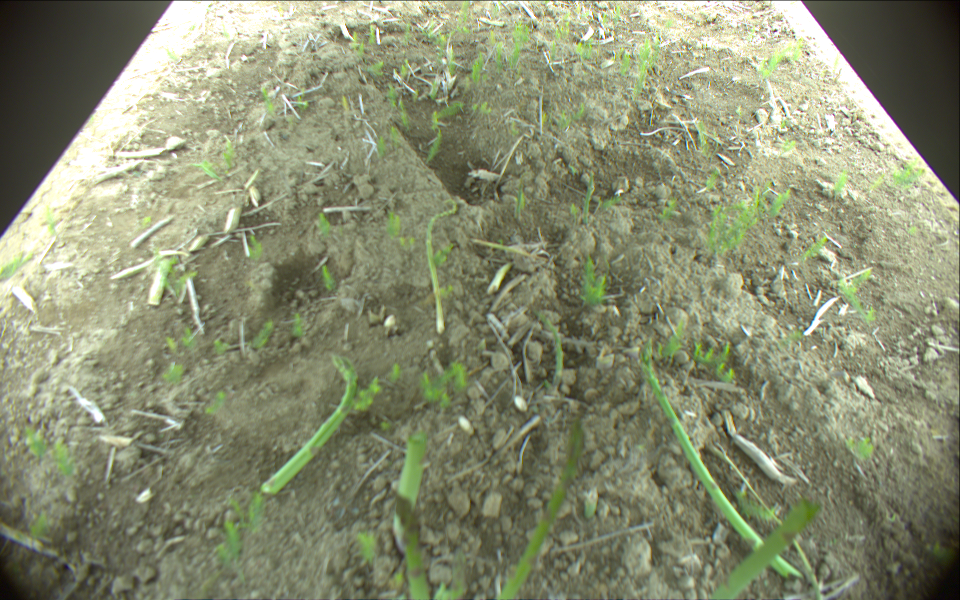aspa: (640, 347, 797, 579), (496, 417, 583, 600), (263, 351, 357, 498), (709, 498, 820, 600), (424, 200, 459, 335), (391, 433, 427, 545), (395, 487, 430, 600), (149, 256, 171, 307)
